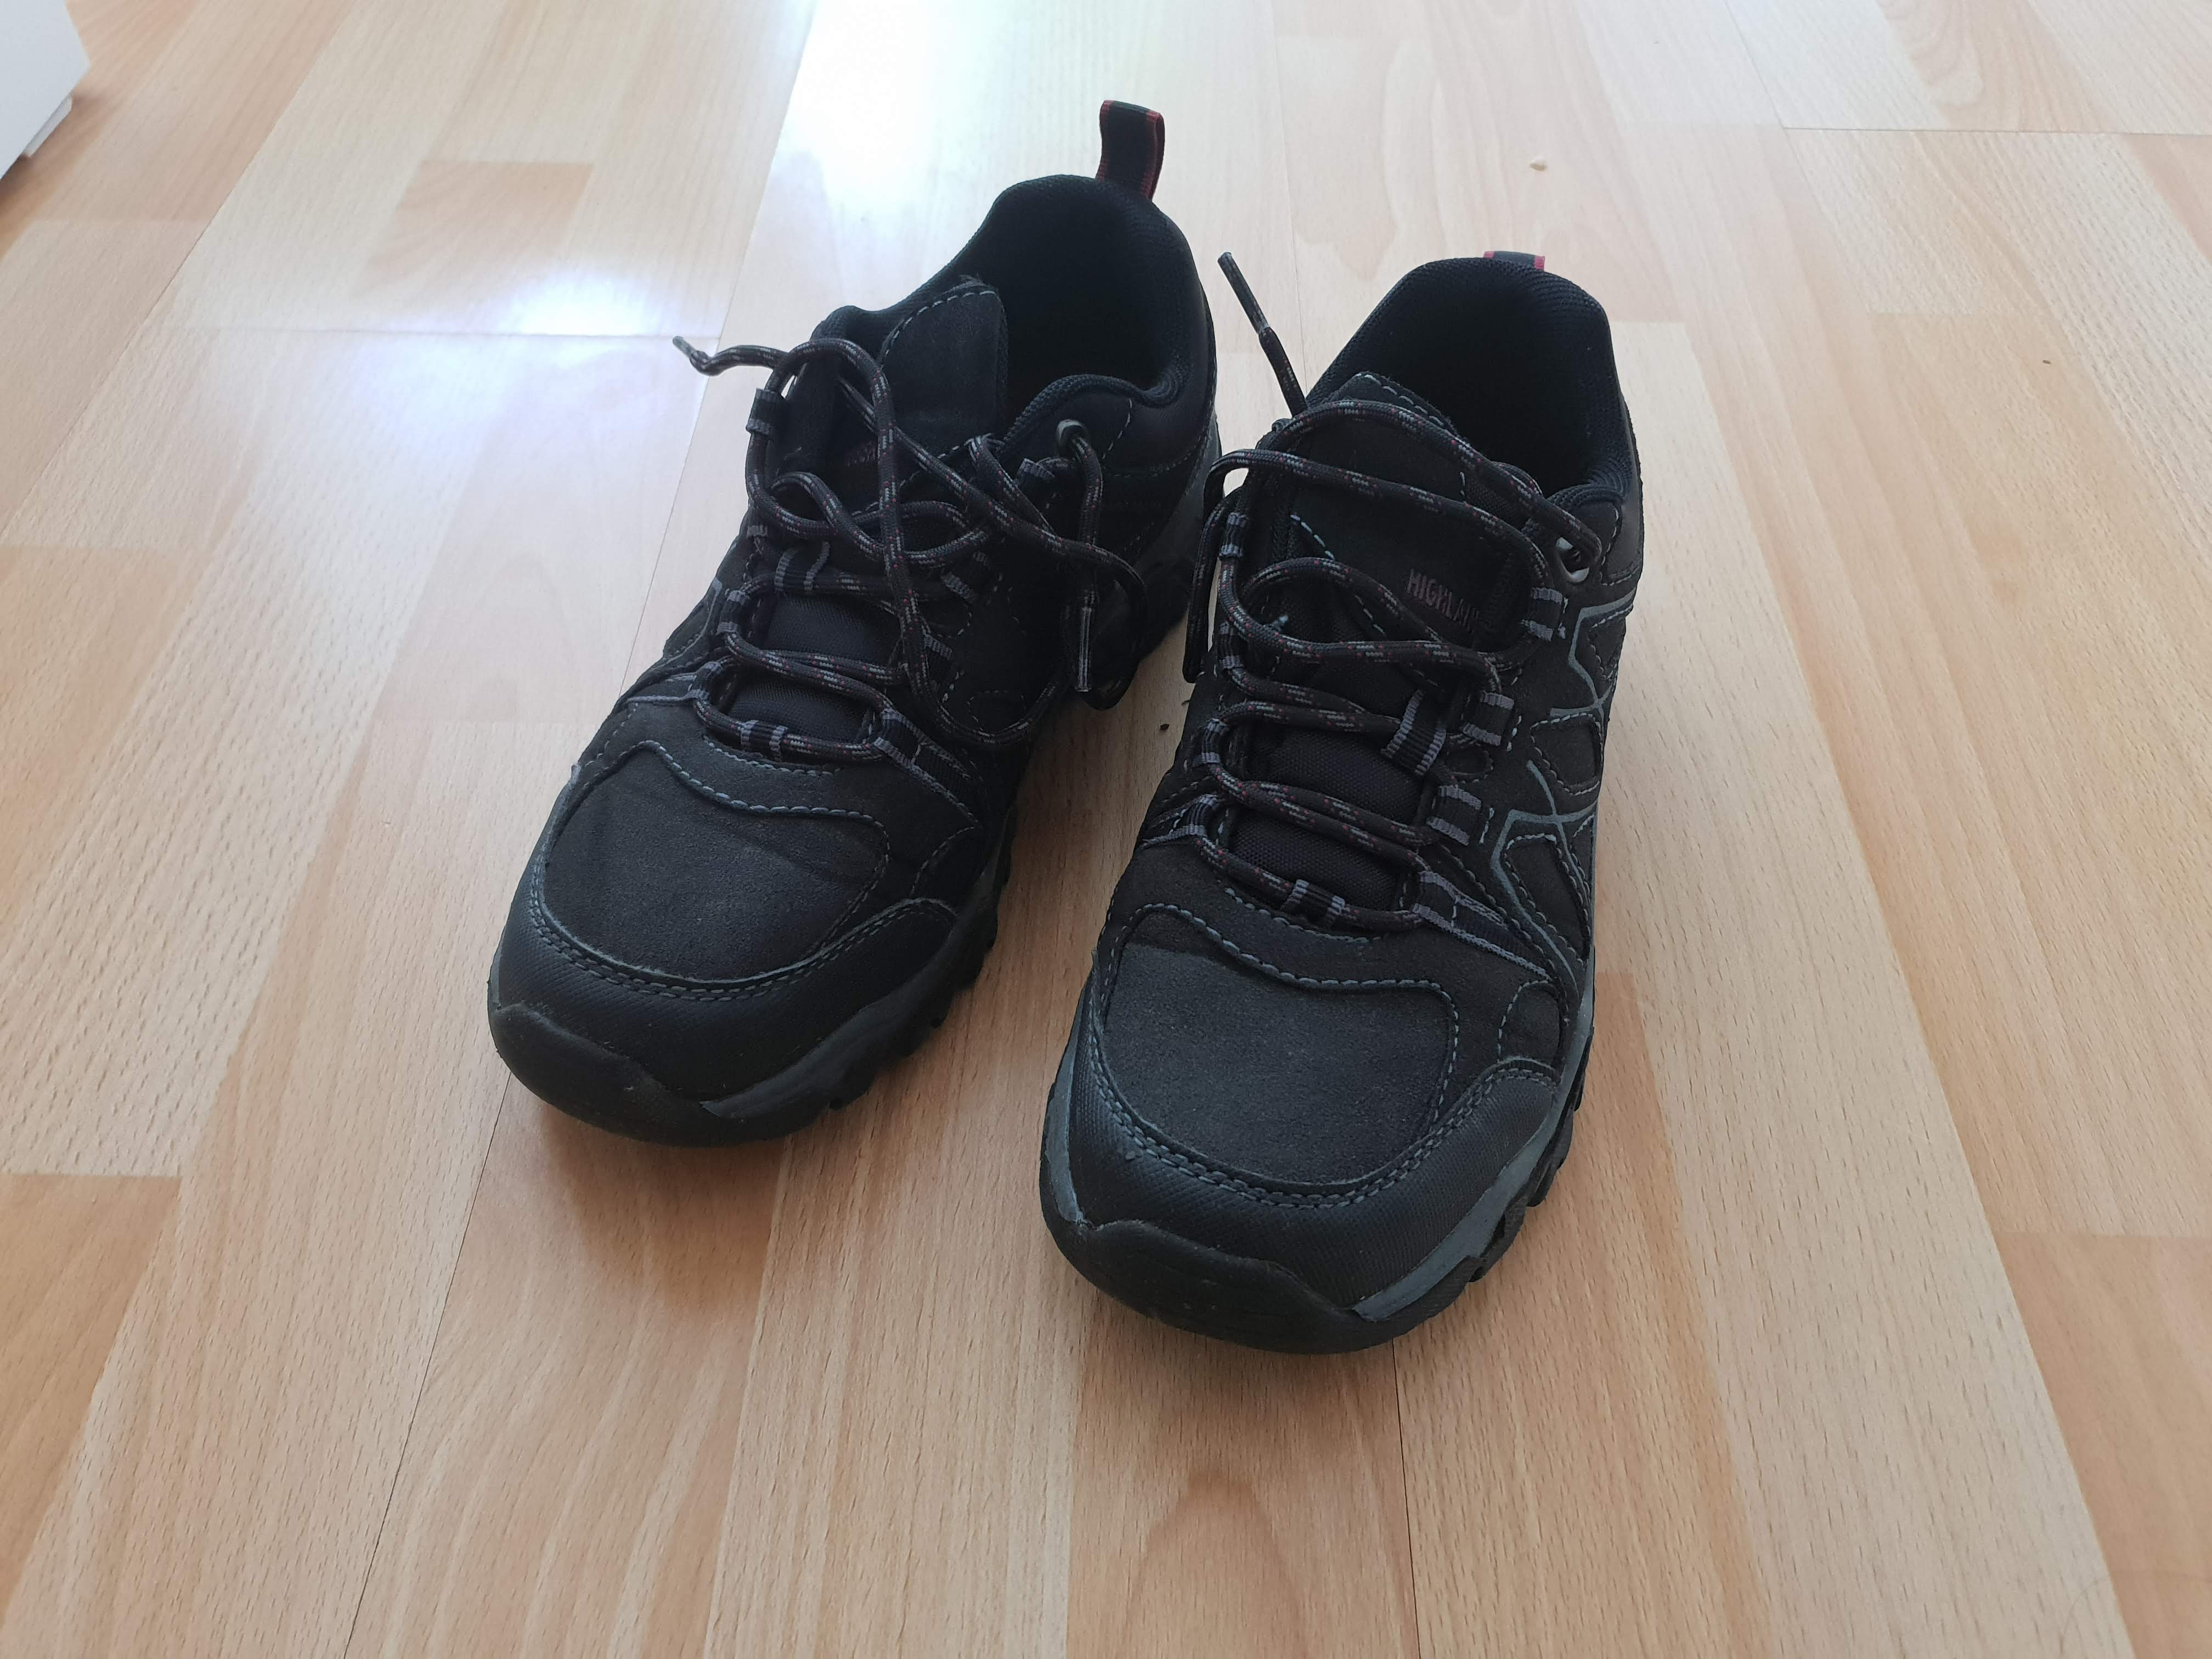clothes: (486, 139, 1656, 1382)
